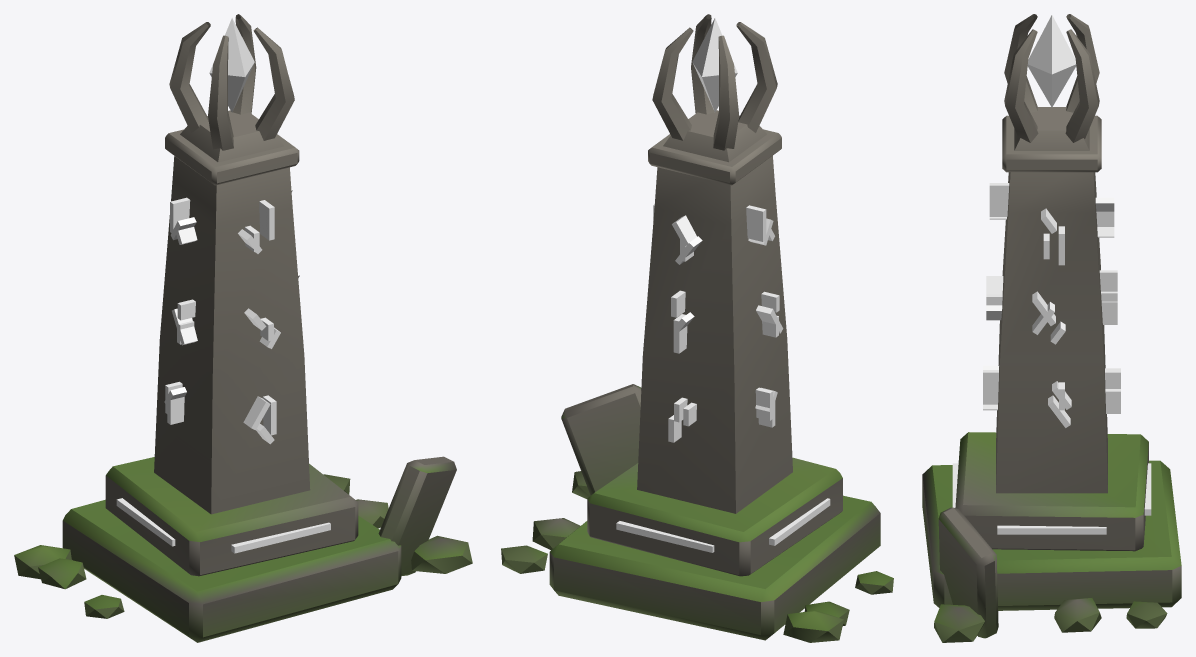
The model's file is waystone.glb.
3 views of the same model, side by side, from view 1: azimuth 30°, elevation 25°; view 2: azimuth 150°, elevation 25°; view 3: azimuth 270°, elevation 25° (orthographic).
Visible parts, largest first — view 1: ws_stone, ws_glow; view 2: ws_stone, ws_glow; view 3: ws_stone, ws_glow.
Boxes of the visible parts, x1,y1,x2,y2 form: ws_stone: [14, 14, 472, 642]; ws_glow: [116, 18, 330, 553]; ws_stone: [501, 14, 893, 642]; ws_glow: [616, 18, 830, 552]; ws_stone: [922, 14, 1181, 642]; ws_glow: [952, 15, 1151, 534].
Bounding box in the file's own units: 2.04 × 3.09 × 1.31.
